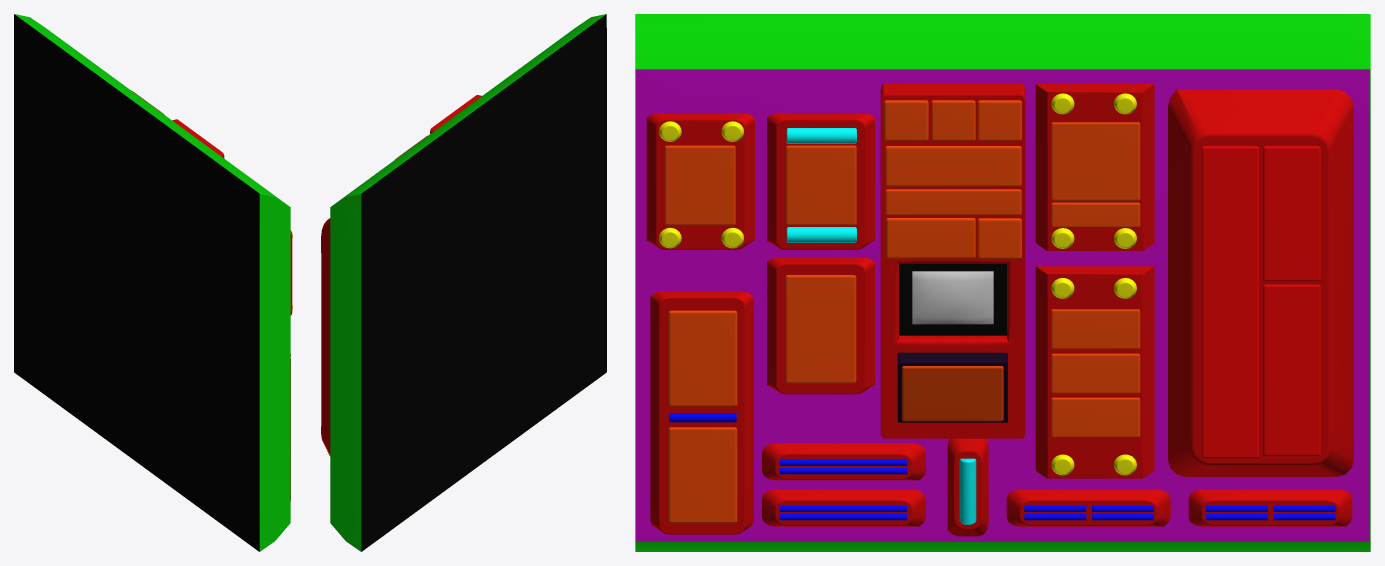
File: Computer_Wall.fbx
3 renders of one model, left to right at view 1: azimuth 30°, elevation 25°; view 2: azimuth 150°, elevation 25°; view 3: azimuth 270°, elevation 25°, orthographic. The views are drawn at different scales.
Visible parts, largest first — view 1: Computer_Wall; view 2: Computer_Wall; view 3: Computer_Wall.
Boxes of the visible parts, bbox=[...] form: Computer_Wall: bbox=[14, 14, 292, 551]; Computer_Wall: bbox=[321, 14, 606, 551]; Computer_Wall: bbox=[635, 14, 1370, 551].
Size of the model in its own units: 45.9 by 263 by 326.
